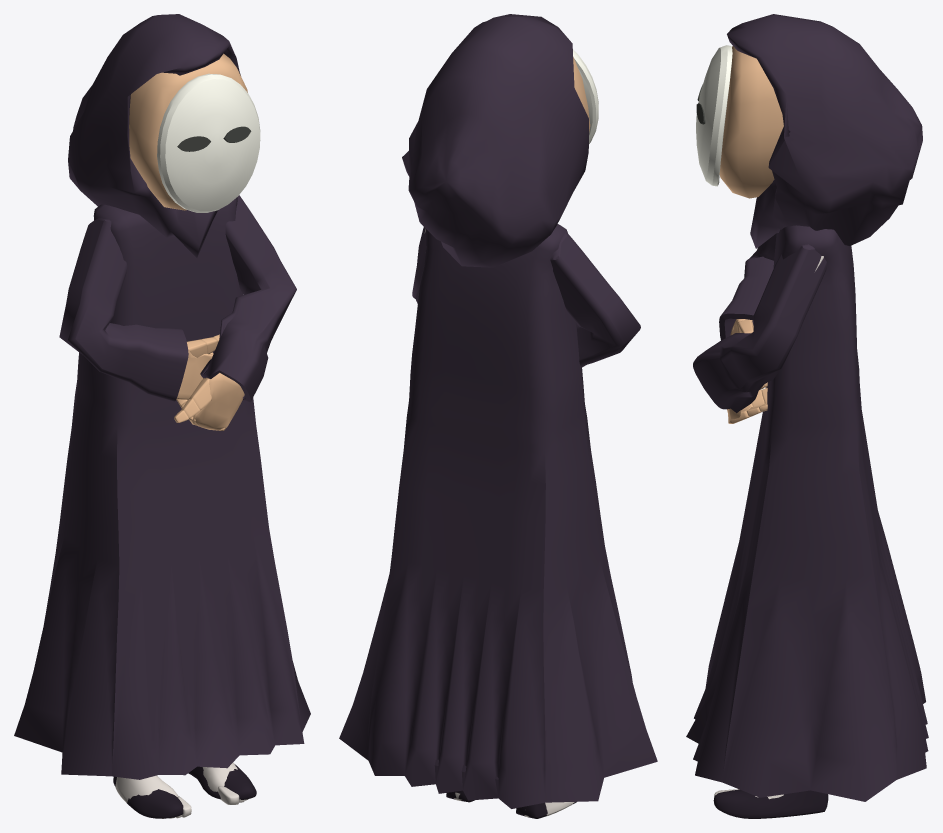
The model's file is Aquarius.fbx.
3 views of the same model, side by side, from view 1: azimuth 30°, elevation 25°; view 2: azimuth 150°, elevation 25°; view 3: azimuth 270°, elevation 25° (orthographic).
Parts seen in each view (by area): view 1: polySurface3, Caputxa, polySurface8, màscara, polySurface9, head_geo, R_palm_R_geo (×2), foot_R_geo, foot_L_geo, foot_R_geo1; view 2: polySurface3, Caputxa, polySurface8, màscara; view 3: polySurface3, Caputxa, polySurface9, head_geo, màscara, foot_L_geo, polySurface8.
Part boxes in pixels (x1=…): polySurface3: x1=14, y1=197, x2=310, y2=779; Caputxa: x1=68, y1=14, x2=240, y2=257; polySurface8: x1=59, y1=218, x2=188, y2=401; màscara: x1=157, y1=73, x2=260, y2=212; polySurface9: x1=200, y1=195, x2=296, y2=401; head_geo: x1=129, y1=53, x2=247, y2=210; R_palm_R_geo (×2): x1=176, y1=351, x2=244, y2=430; foot_R_geo: x1=113, y1=776, x2=183, y2=818; foot_L_geo: x1=188, y1=764, x2=256, y2=799; foot_R_geo1: x1=115, y1=775, x2=178, y2=802; polySurface3: x1=339, y1=224, x2=657, y2=808; Caputxa: x1=402, y1=14, x2=588, y2=267; polySurface8: x1=550, y1=232, x2=640, y2=367; màscara: x1=573, y1=49, x2=598, y2=143; polySurface3: x1=686, y1=225, x2=928, y2=801; Caputxa: x1=727, y1=14, x2=922, y2=248; polySurface9: x1=693, y1=244, x2=827, y2=413; head_geo: x1=719, y1=46, x2=783, y2=198; màscara: x1=696, y1=45, x2=732, y2=186; foot_L_geo: x1=713, y1=789, x2=828, y2=818; polySurface8: x1=719, y1=233, x2=776, y2=340.
Size of the model in its own units: 1.24 by 3.48 by 0.9859.
